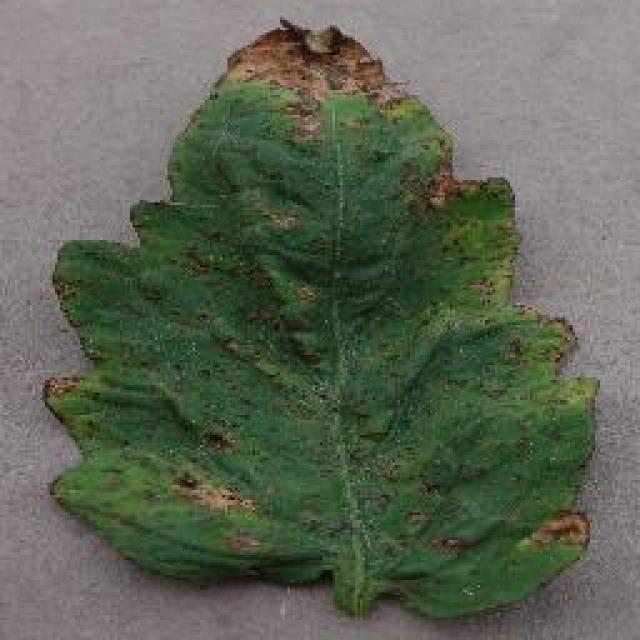Tomato___Bacterial_spot: (37, 20, 611, 626)
